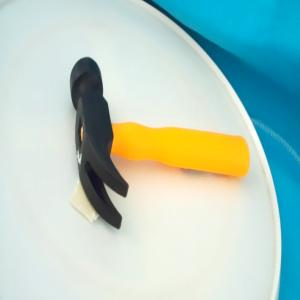martelo: (68, 55, 251, 232)
